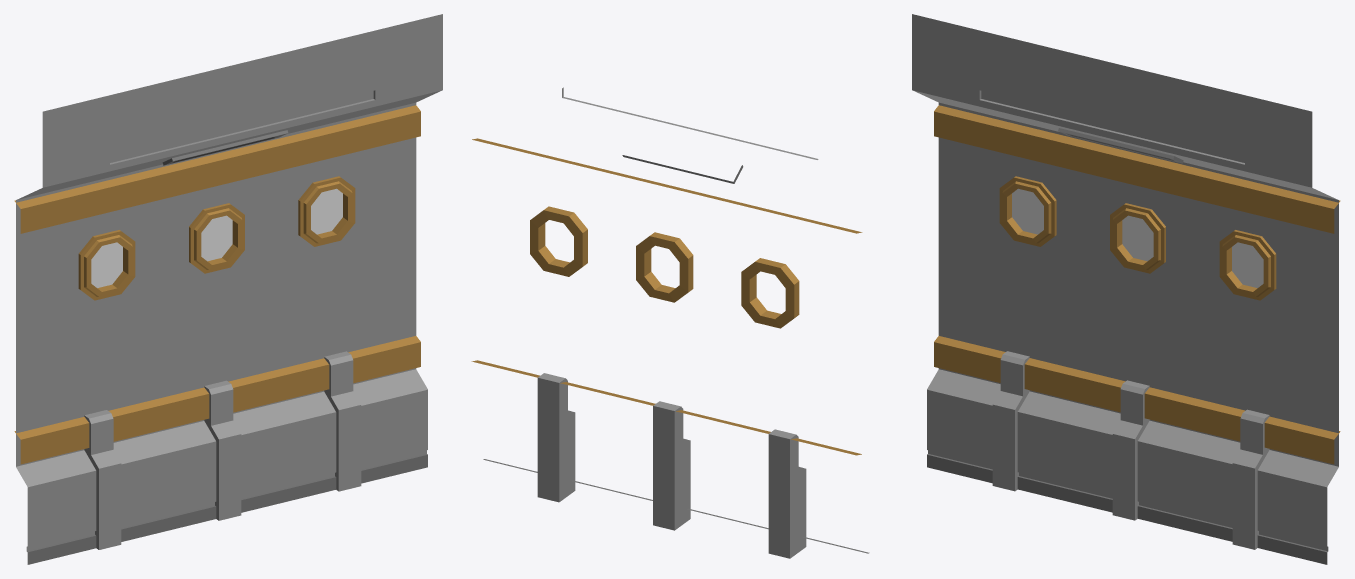
File: SmallWindows_Wall_SideB.glb
3 views of the same model, side by side, from view 1: azimuth 30°, elevation 25°; view 2: azimuth 150°, elevation 25°; view 3: azimuth 330°, elevation 25° (orthographic). The views are drawn at different scales.
Visible parts, largest first — view 1: SmallWindows_Wall_SideB; view 2: SmallWindows_Wall_SideB; view 3: SmallWindows_Wall_SideB.
Boxes of the visible parts, x1,y1,x2,y2 form: SmallWindows_Wall_SideB: (14, 14, 442, 564); SmallWindows_Wall_SideB: (471, 87, 869, 558); SmallWindows_Wall_SideB: (912, 14, 1340, 564).
Size of the model in its own units: 4 by 4.43 by 0.5261.
